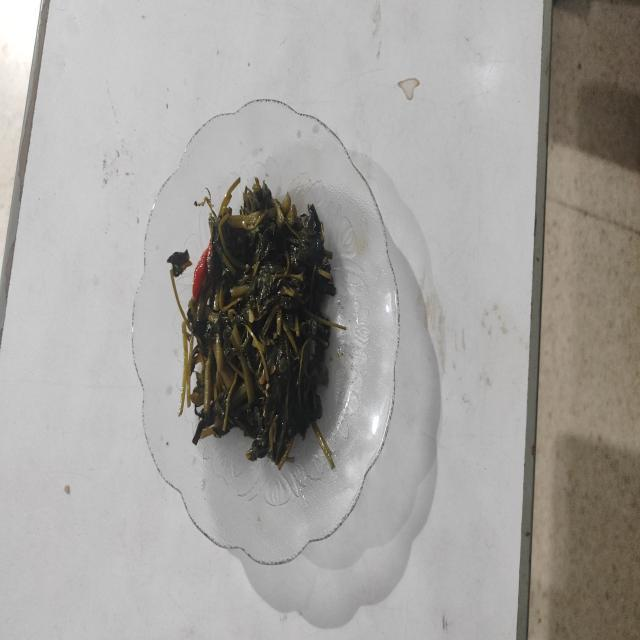tumis_kangkung: (184, 178, 346, 468)
